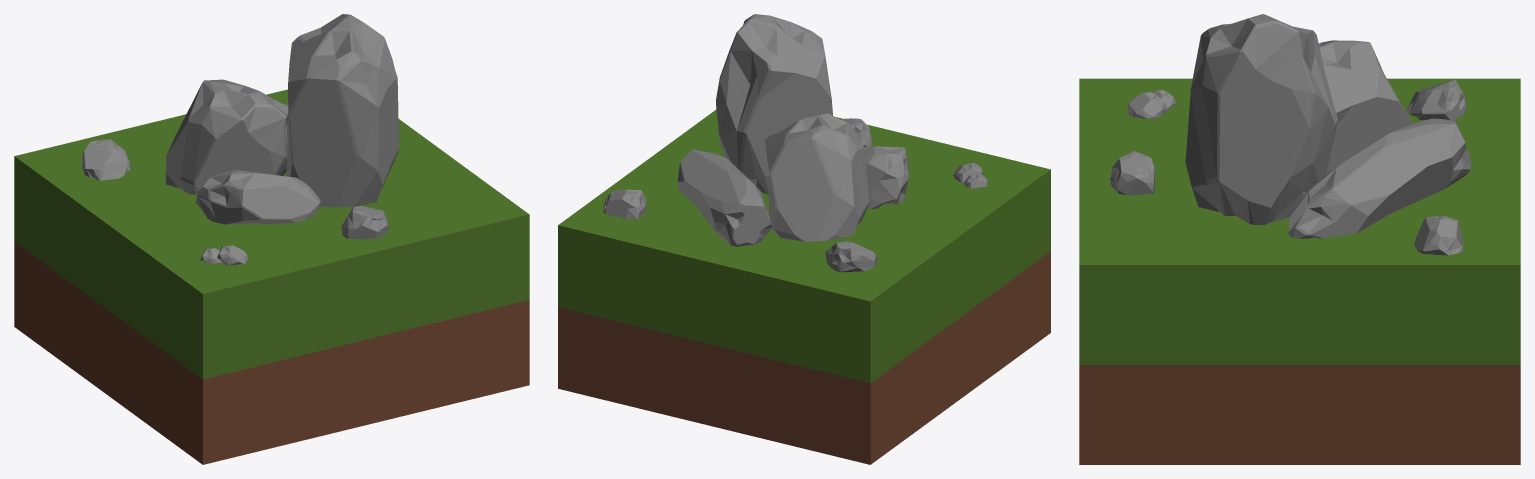
Rendered from Rock.fbx.
The picture shows the model from 3 angles, left to right: view 1: azimuth 30°, elevation 25°; view 2: azimuth 150°, elevation 25°; view 3: azimuth 270°, elevation 25°; orthographic projection. The views are drawn at different scales.
Parts seen in each view (by area): view 1: Empty, Rock, Rock.004, Rock.007, Rock.008, Rock.006; view 2: Empty, Rock, Rock.004, Rock.001, Rock.007, Rock.008, Rock.005; view 3: Empty, Rock, Rock.001, Rock.004, Rock.008, Rock.006, Rock.005, Rock.003.
Boxes of the visible parts, left/top/right/bottom form: Empty: left=14, top=89, right=529, bottom=464; Rock: left=286, top=14, right=398, bottom=207; Rock.004: left=165, top=79, right=288, bottom=195; Rock.007: left=195, top=169, right=320, bottom=224; Rock.008: left=82, top=139, right=130, bottom=180; Rock.006: left=341, top=206, right=388, bottom=239; Empty: left=558, top=110, right=1050, bottom=464; Rock: left=716, top=14, right=832, bottom=194; Rock.004: left=765, top=113, right=869, bottom=241; Rock.001: left=677, top=149, right=772, bottom=246; Rock.007: left=863, top=146, right=908, bottom=208; Rock.008: left=825, top=241, right=877, bottom=272; Rock.005: left=603, top=189, right=646, bottom=219; Empty: left=1079, top=78, right=1520, bottom=464; Rock: left=1185, top=14, right=1337, bottom=224; Rock.001: left=1288, top=118, right=1470, bottom=238; Rock.004: left=1318, top=40, right=1412, bottom=174; Rock.008: left=1405, top=79, right=1466, bottom=120; Rock.006: left=1110, top=151, right=1154, bottom=195; Rock.005: left=1414, top=216, right=1463, bottom=255; Rock.003: left=1127, top=92, right=1167, bottom=119.
Bounding box in the file's own units: 100 × 97.37 × 100.
